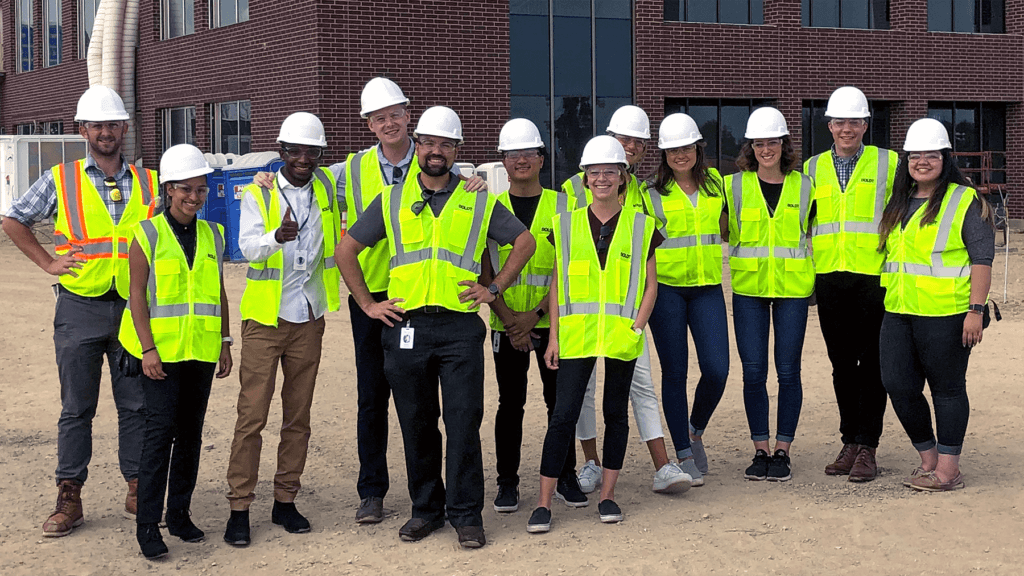Helmet: (155, 141, 222, 242), (349, 72, 417, 167), (70, 82, 134, 168), (895, 112, 961, 195), (272, 106, 331, 194), (487, 114, 548, 195), (412, 105, 469, 188), (814, 83, 876, 157), (737, 105, 795, 183), (575, 134, 633, 204), (652, 110, 707, 178), (602, 99, 655, 147)
Reflective vest: (238, 165, 345, 333), (545, 205, 656, 363), (128, 212, 227, 369), (49, 158, 157, 301), (885, 179, 987, 322), (723, 163, 819, 305), (388, 180, 486, 318), (803, 143, 900, 278), (491, 187, 577, 332), (347, 147, 420, 294), (646, 167, 726, 289)
